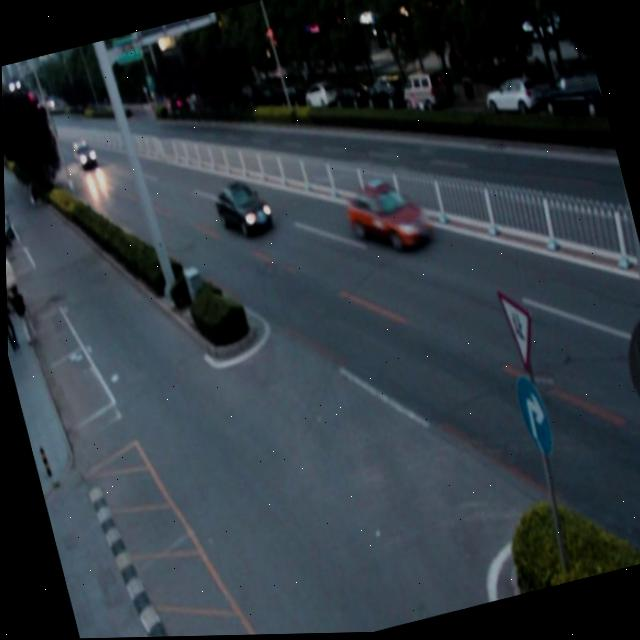car: (339, 172, 430, 266), (210, 176, 272, 240)
